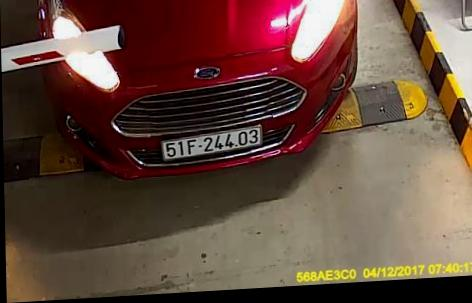License_Plate: (157, 124, 262, 158)
